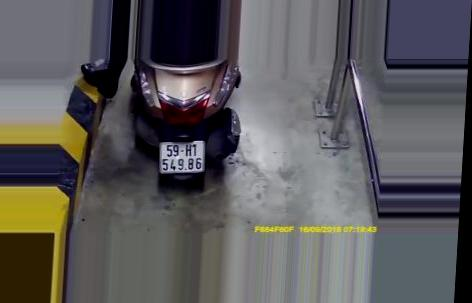License_Plate: (153, 138, 210, 175)
